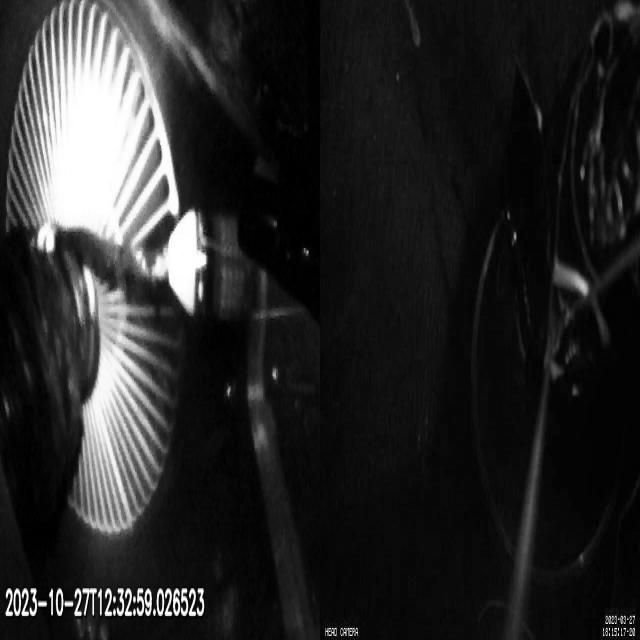head: (169, 207, 252, 318)
